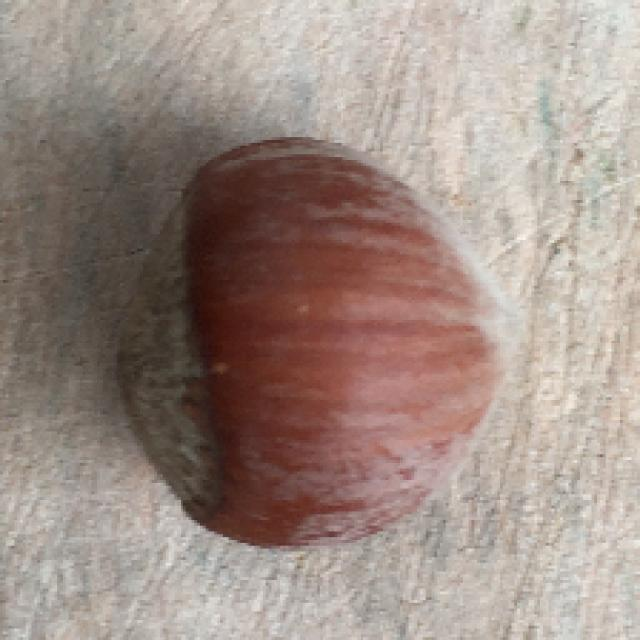qualityHazelnut: (106, 132, 521, 558)
